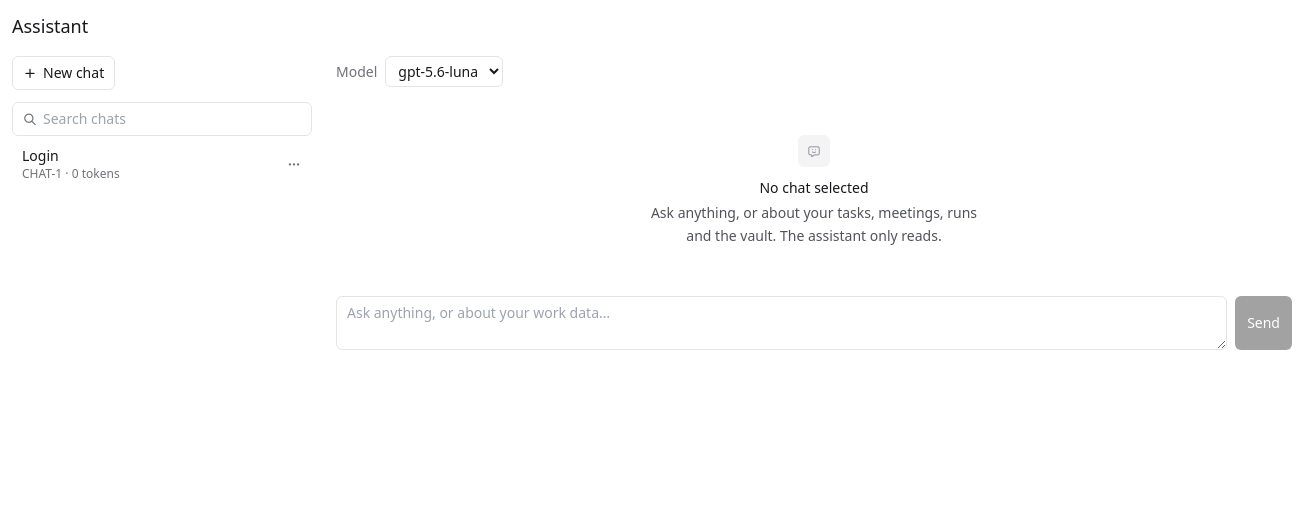
Test case: mermaid in Assistant replies › a rejected render shows mermaid-error with the fence source
Click the button "Login CHAT-1 · 0 tokens" at point(40, 156), box [12, 140, 276, 188]
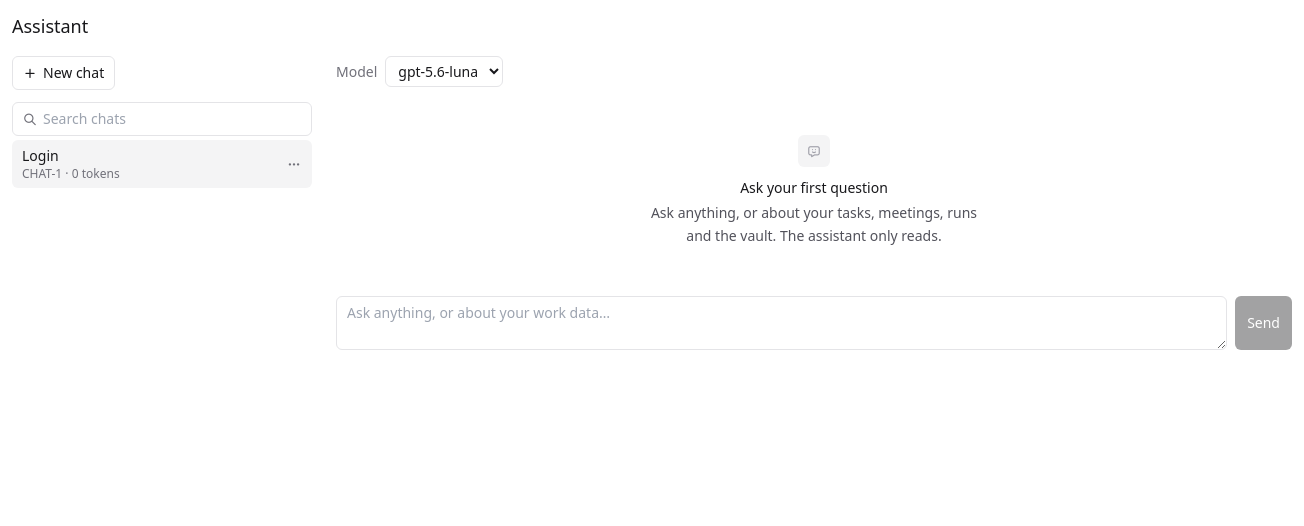
Result: the text "Ask your first question" is shown at [740, 177, 888, 198]
Type "draw a login" into the text box named "Message" at point(782, 322), box [336, 296, 1227, 350]
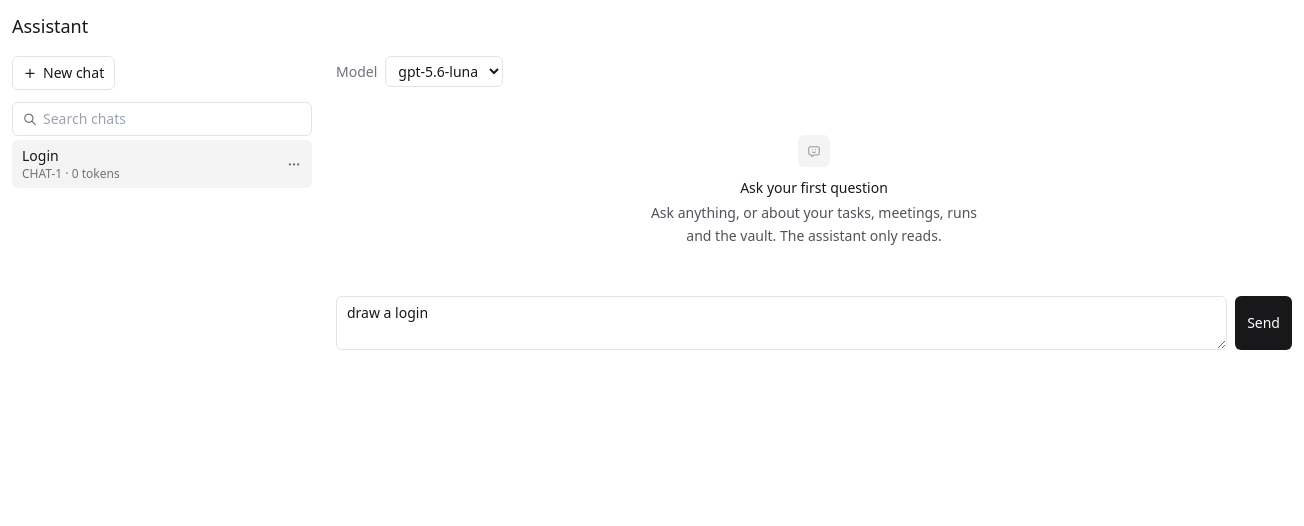
Click the button "Send" at point(1264, 322), box [1235, 296, 1292, 350]
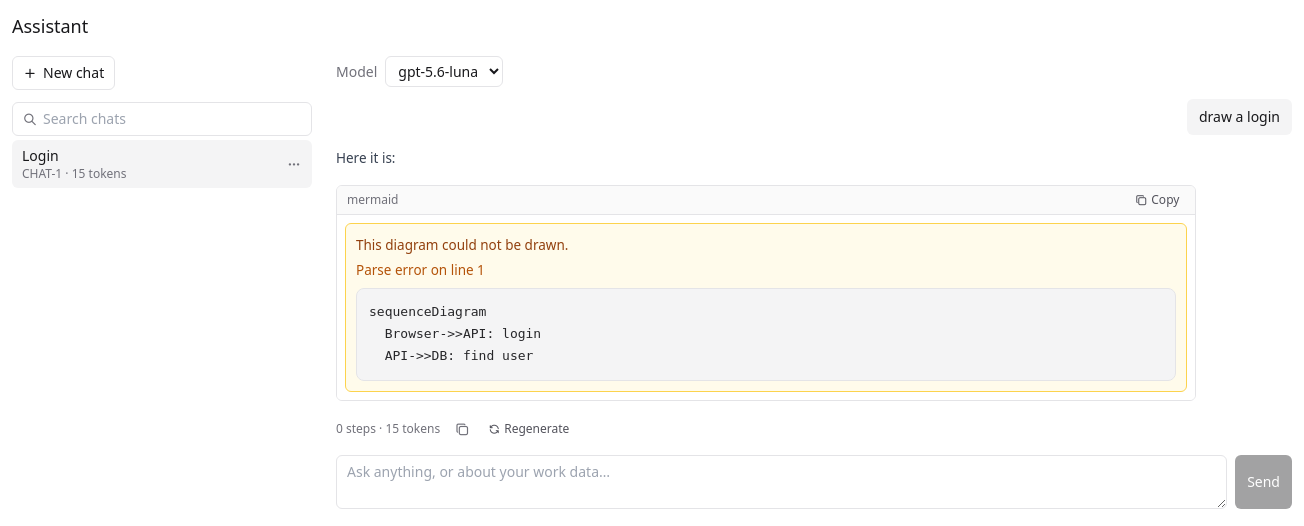
Result: the element with test id "mermaid-error" is shown at [345, 223, 1187, 392]
Result: the element with test id "mermaid-error" shows "Browser->>API: login" at [369, 304, 541, 363]
